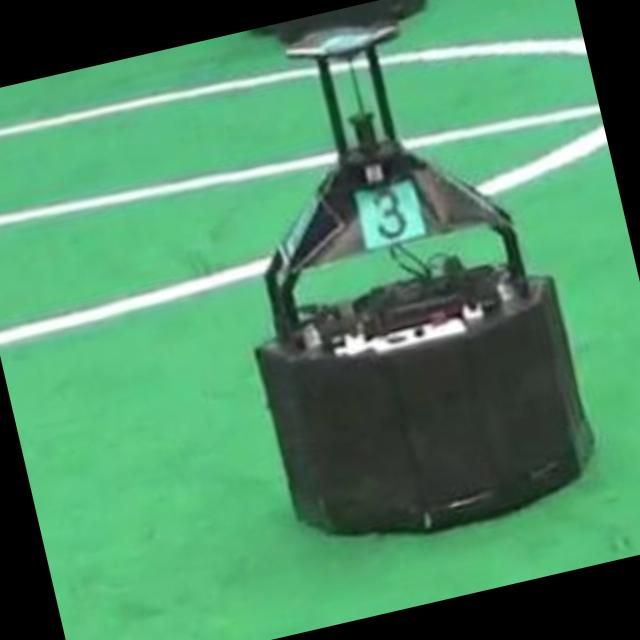robot: (256, 0, 594, 534)
